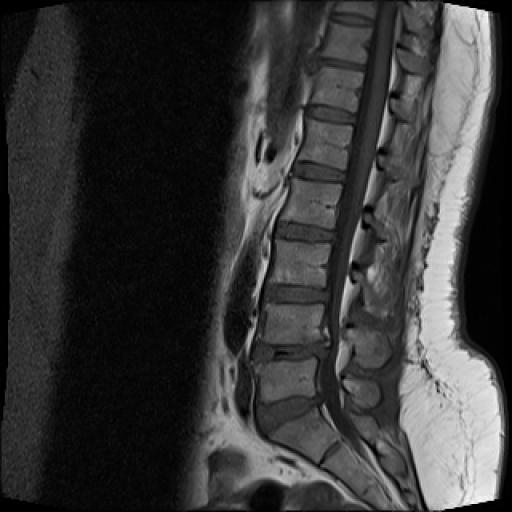L1: (297, 117, 353, 170)
L2: (280, 177, 342, 228)
L3: (272, 240, 330, 286)
L4: (266, 305, 324, 344)
L5: (261, 360, 317, 402)
S1: (270, 407, 338, 464)
